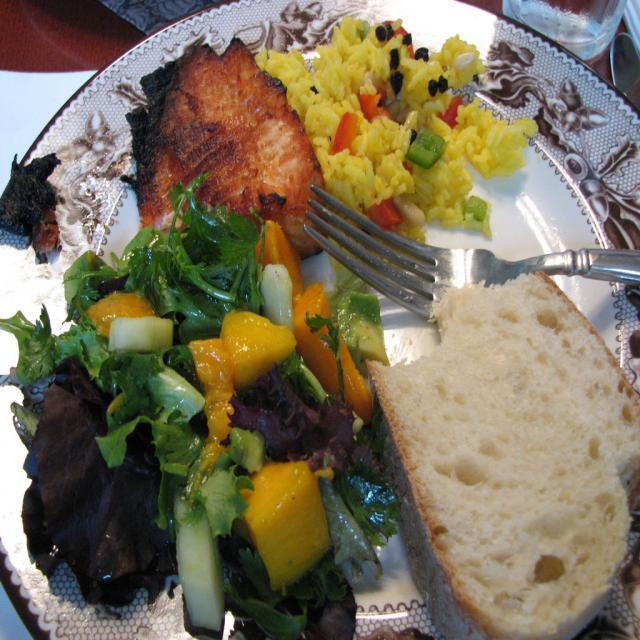Bread: (365, 271, 639, 639)
